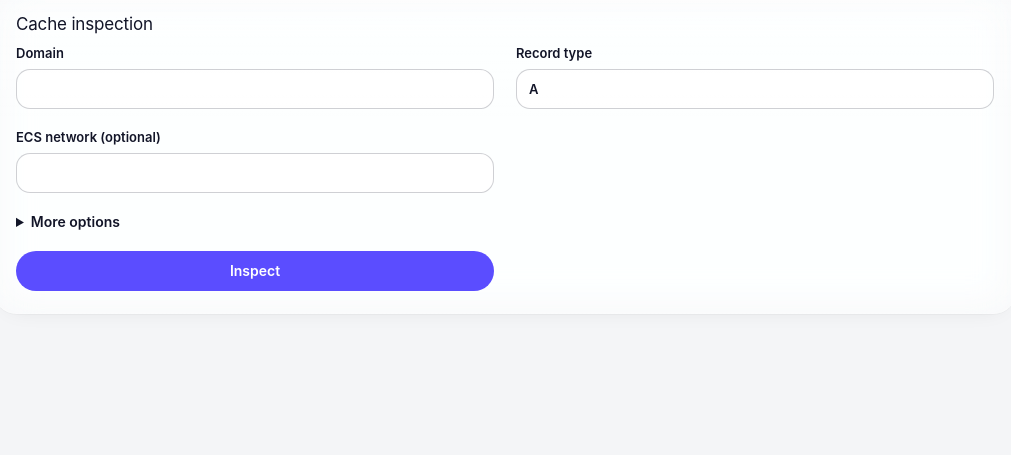
Scenario: cache inspection › explains a cached DNSSEC failure without suggesting another upstream request
The width and height of the screenshot is (1011, 455).
Type "bogus.test" into the field labelled "Domain" at (255, 89), box [16,69,494,109]
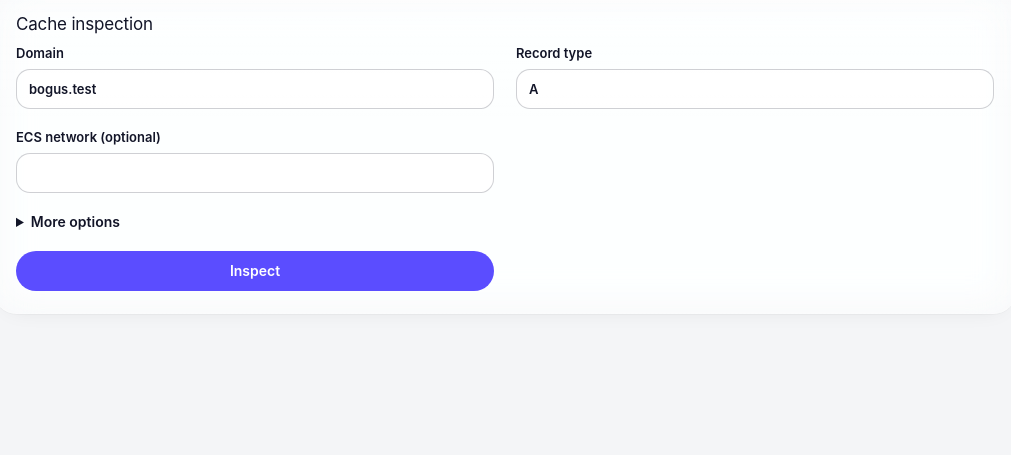
Click the button "Inspect" at (255, 271), box [16,251,494,291]
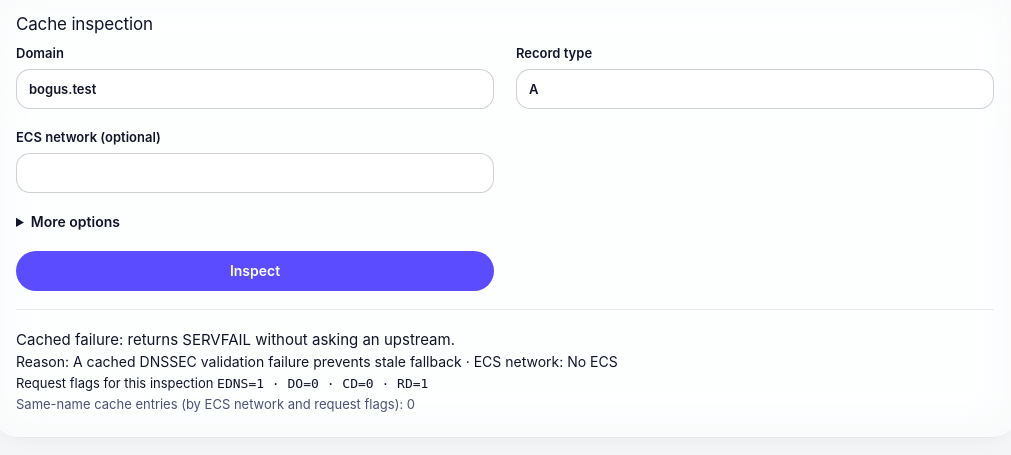
Expected: the heading "Cached failure: returns SERVFAIL without asking an upstream." is shown, [16,330,455,349]
Expected: the text "A cached DNSSEC validation failure prevents stale fallback" is shown, [16,353,618,370]
